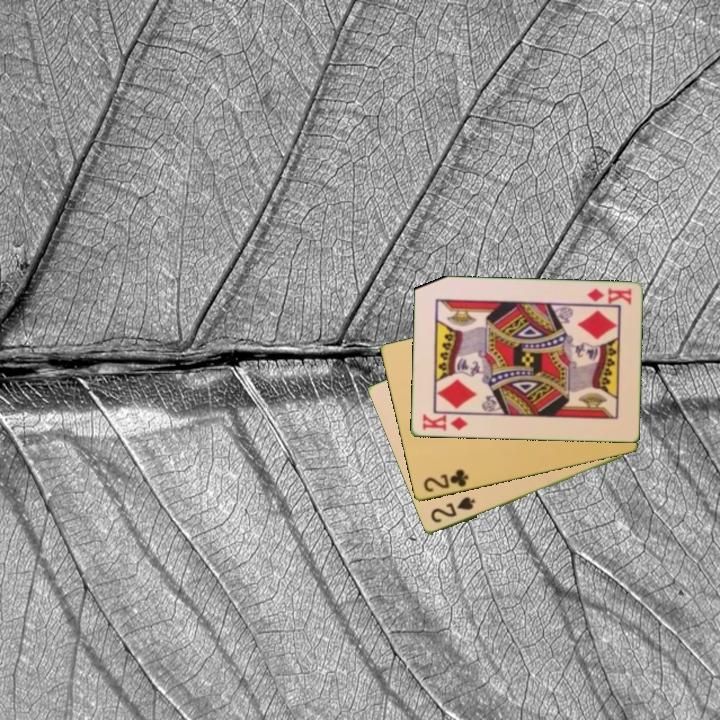2c: (420, 466, 471, 495)
2s: (427, 493, 478, 526)
Kd: (418, 411, 470, 434), (583, 285, 634, 307)
